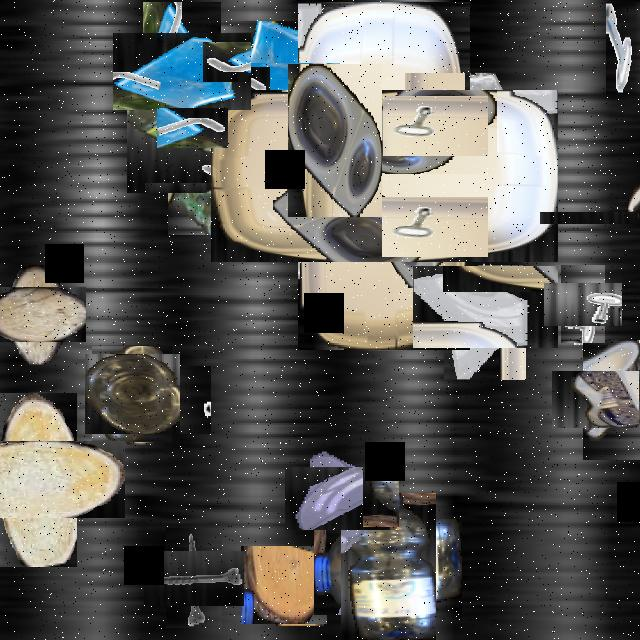glass: (428, 250, 542, 364), (128, 17, 236, 125), (298, 453, 387, 542), (456, 73, 512, 172)
metal: (394, 84, 476, 168), (155, 539, 233, 617), (552, 274, 614, 334), (164, 100, 220, 156), (606, 2, 640, 94), (173, 366, 211, 434)
plastic: (254, 46, 514, 306), (147, 42, 319, 214), (327, 506, 449, 628), (288, 64, 382, 217), (88, 351, 176, 438), (567, 355, 640, 444), (583, 168, 640, 268)
wood: (0, 417, 101, 542), (241, 546, 327, 624), (0, 275, 75, 353)
